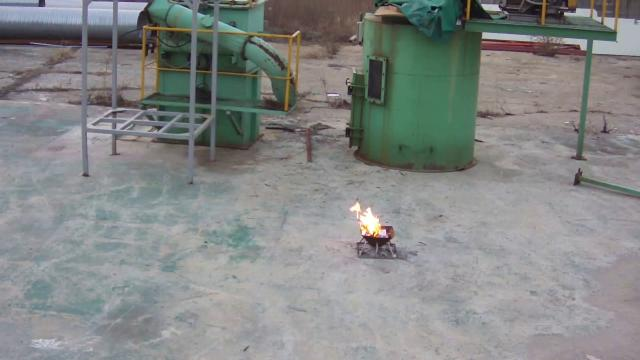fire: (348, 200, 382, 236)
